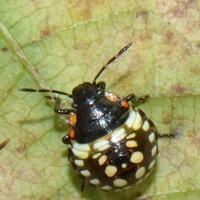insect: (20, 43, 157, 190)
